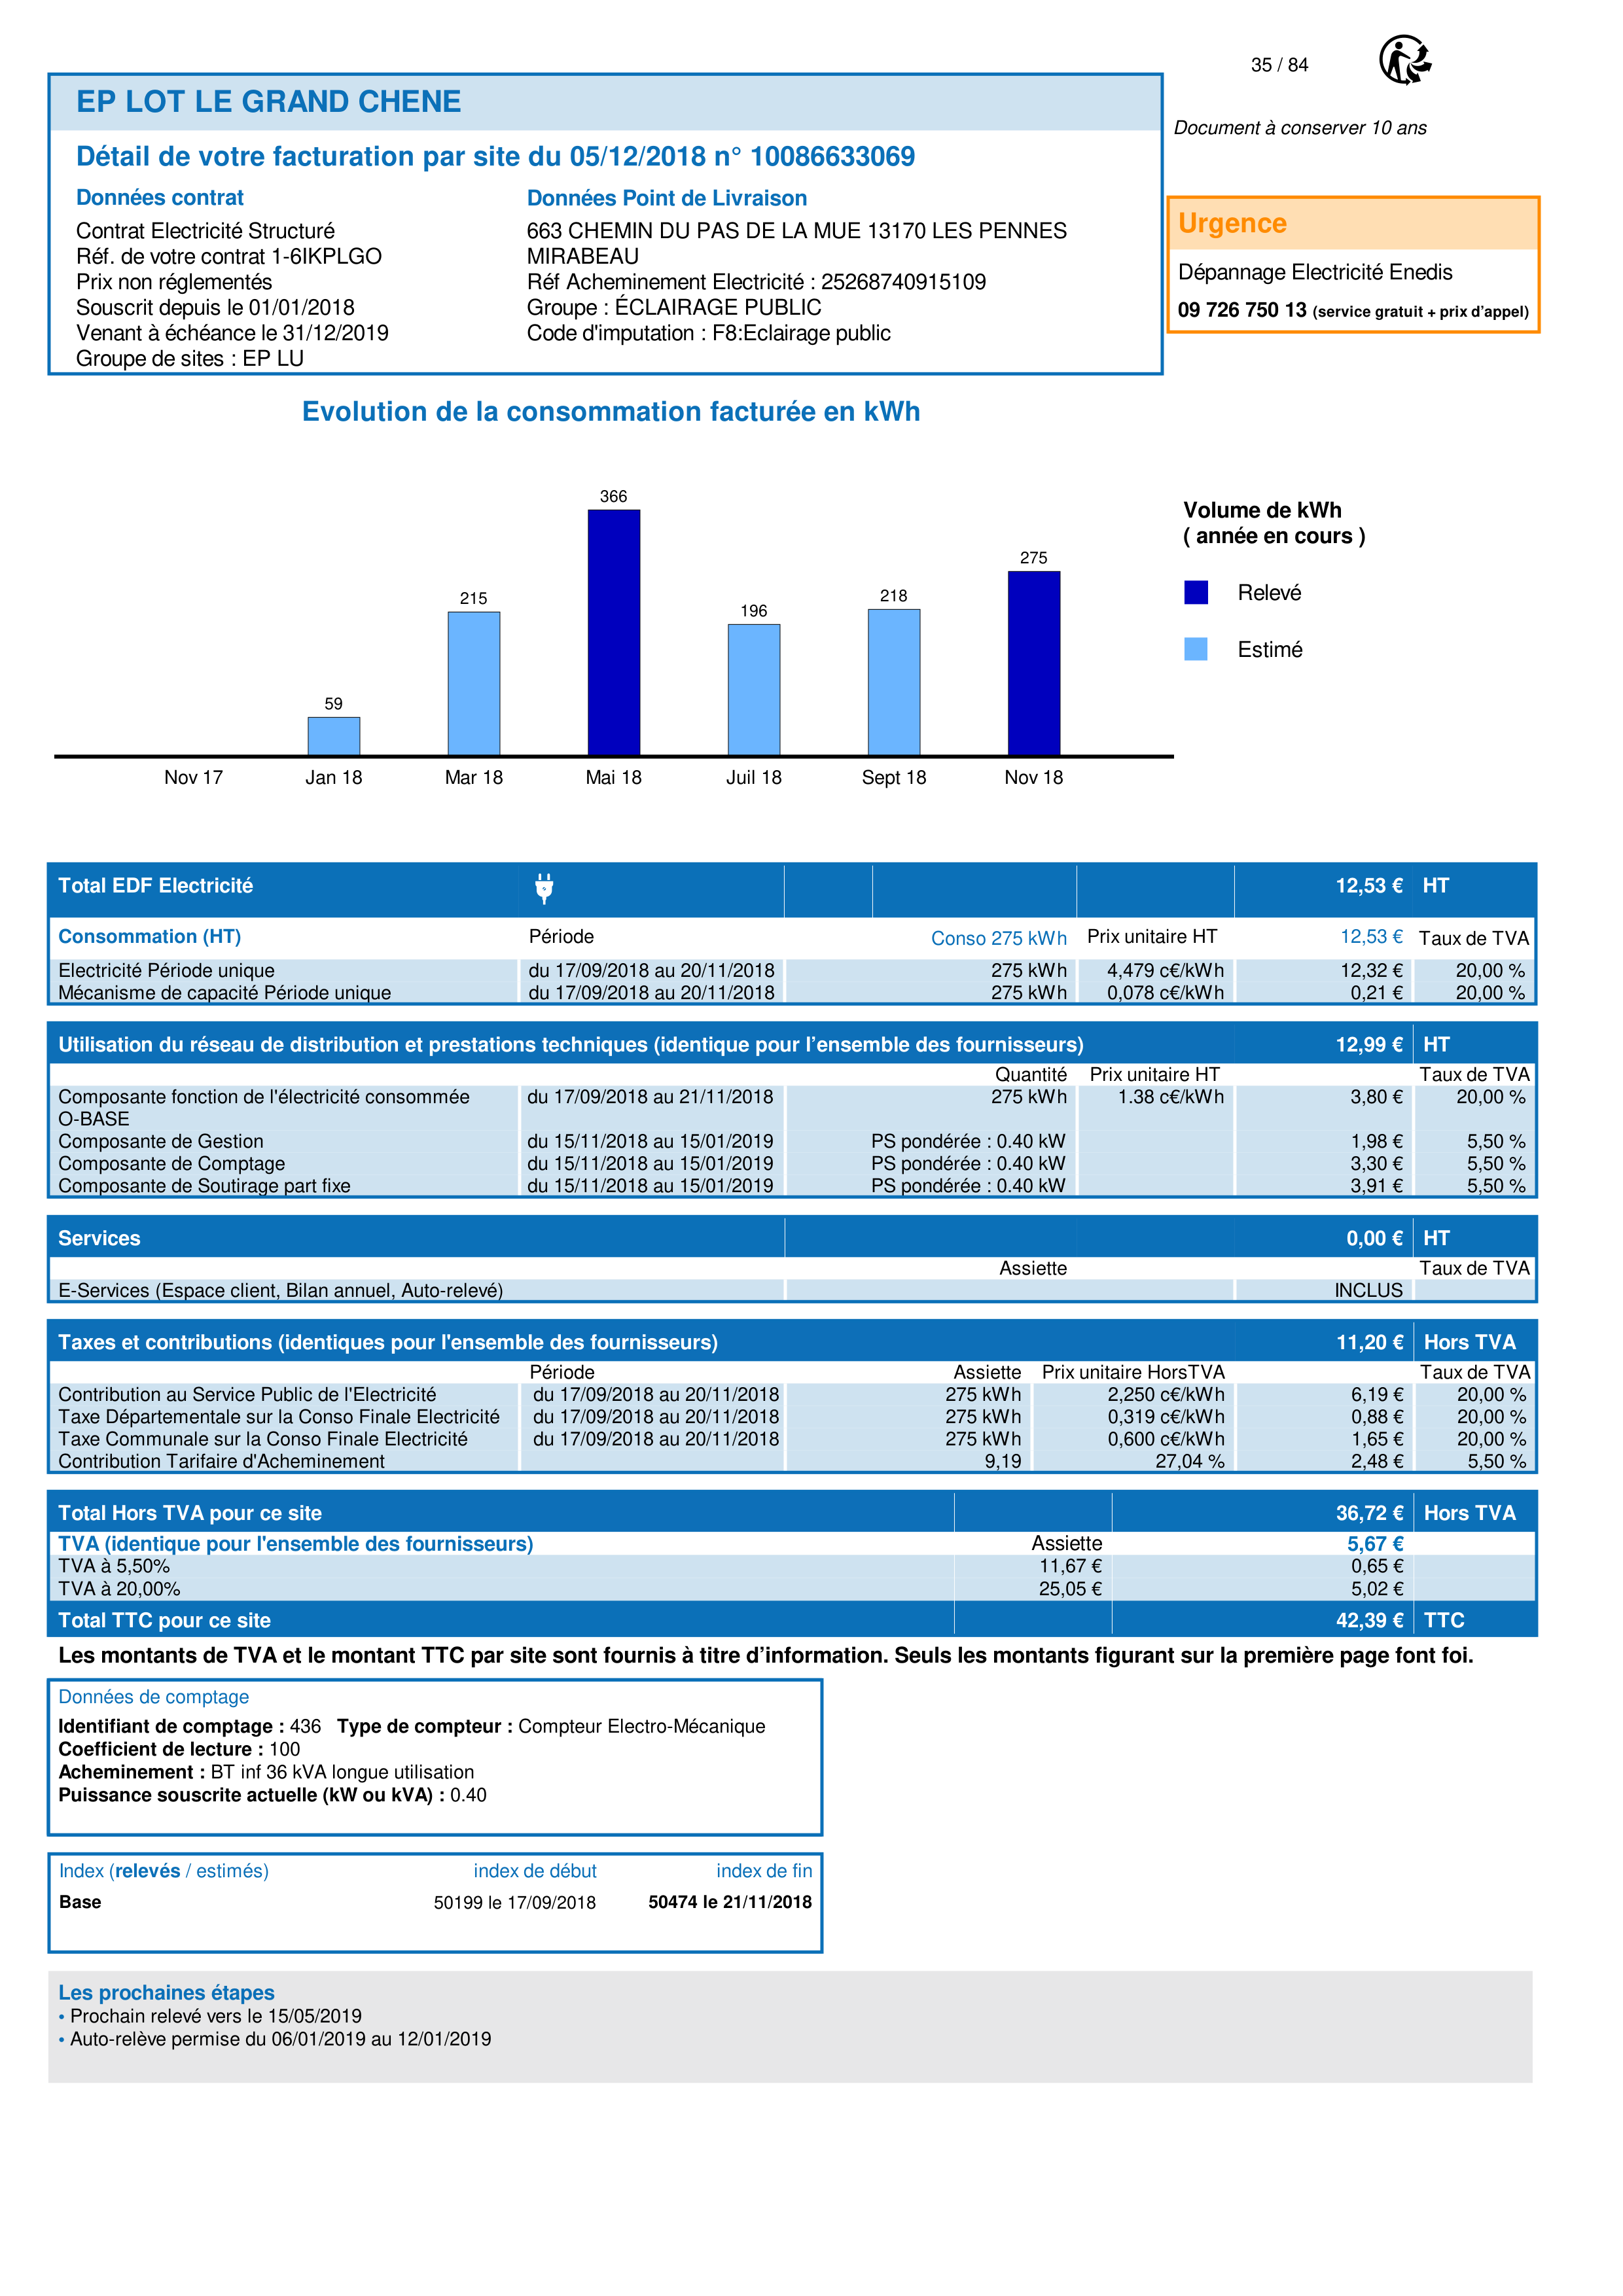area: (47, 1855, 819, 1954)
type_indicator: (46, 1855, 281, 1888)
